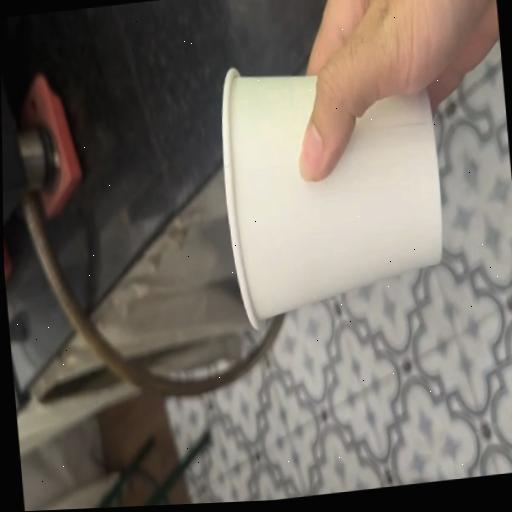Ly_giay: (222, 68, 442, 326)
